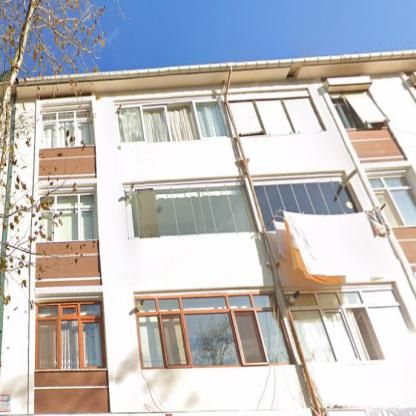window: (137, 293, 291, 367), (286, 291, 407, 361), (126, 182, 256, 236), (253, 182, 355, 232), (117, 101, 226, 141), (38, 303, 102, 367), (228, 98, 321, 135), (369, 176, 415, 228), (39, 197, 94, 239), (39, 110, 93, 148), (332, 94, 386, 128)
